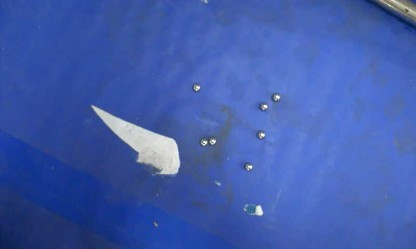ironball: (271, 92, 280, 101), (243, 162, 252, 171), (256, 130, 265, 139), (199, 137, 208, 146), (258, 102, 267, 110), (192, 83, 200, 91), (208, 137, 216, 145)
